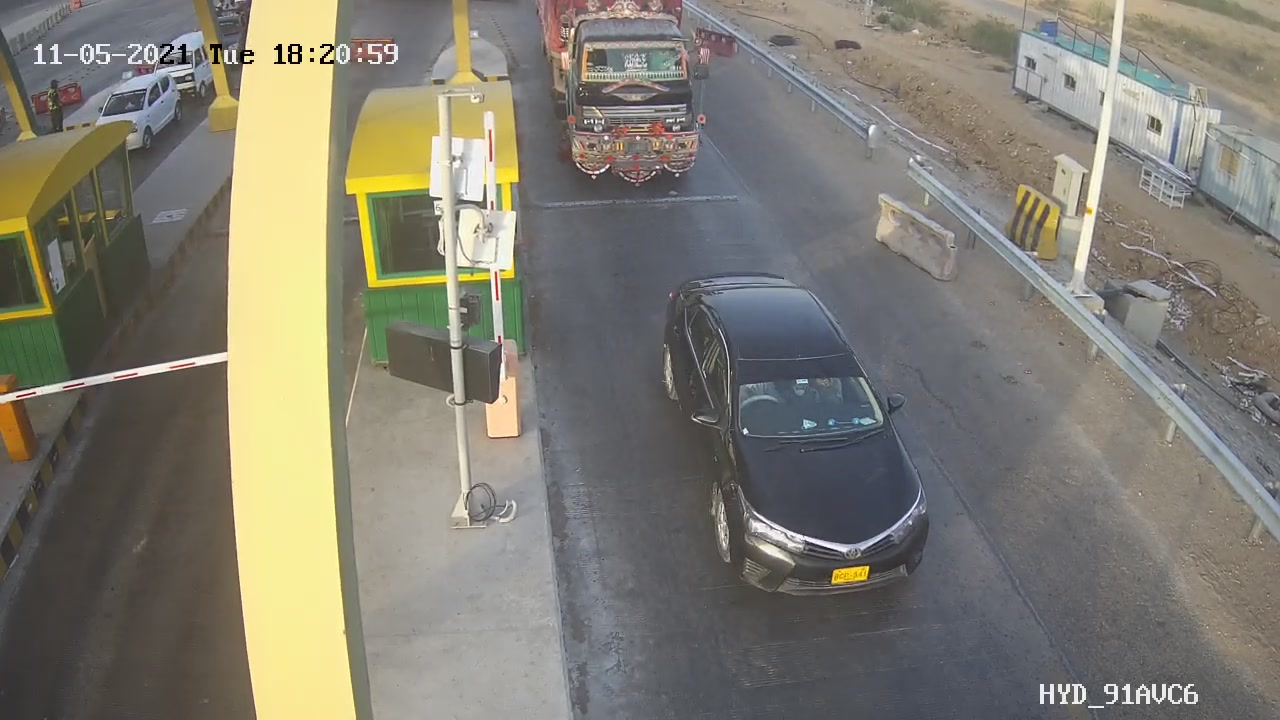F1: (656, 274, 937, 598)
